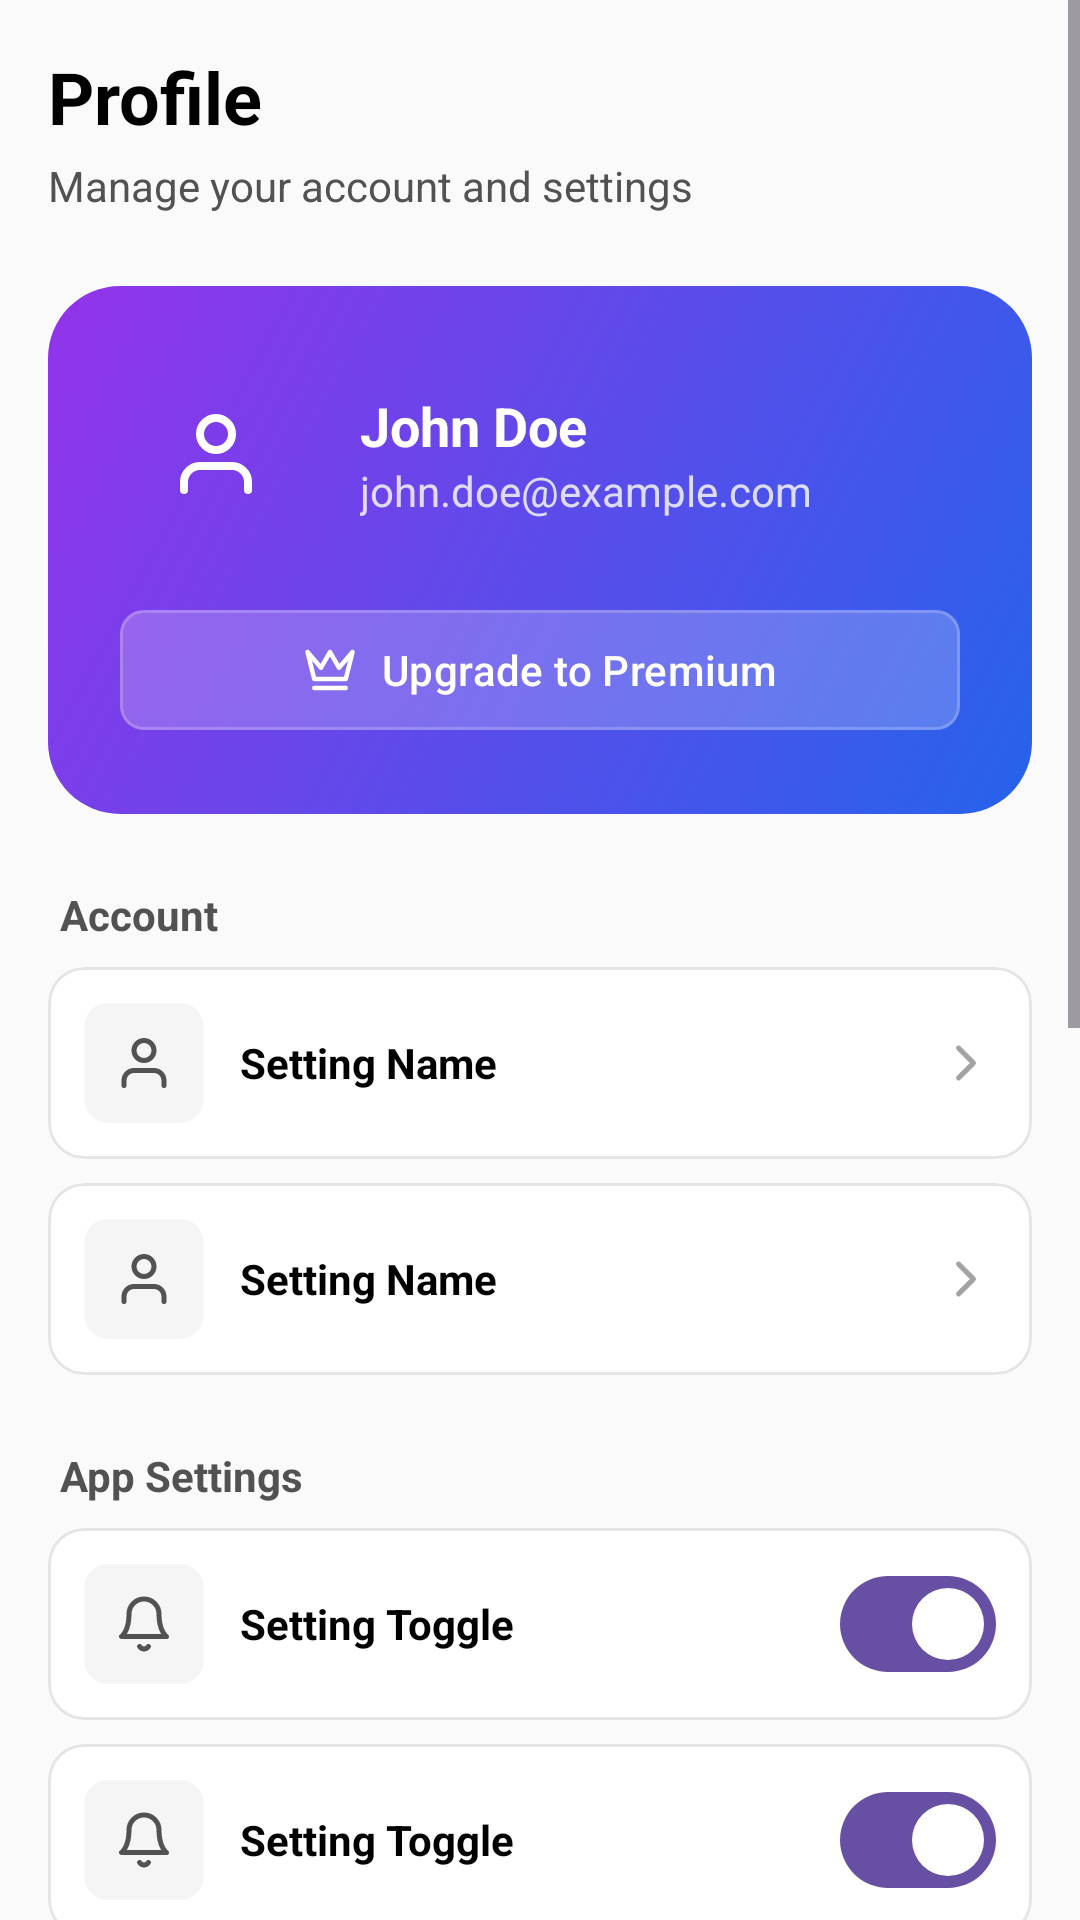

Icon click points for this 1080w x 1920h phone screenshot, format (x=x, y=y):
bell: (x=144, y=1624), (x=144, y=1840)
chevron right: (x=966, y=1063), (x=966, y=1279)
user: (x=216, y=454), (x=144, y=1063), (x=144, y=1279)
